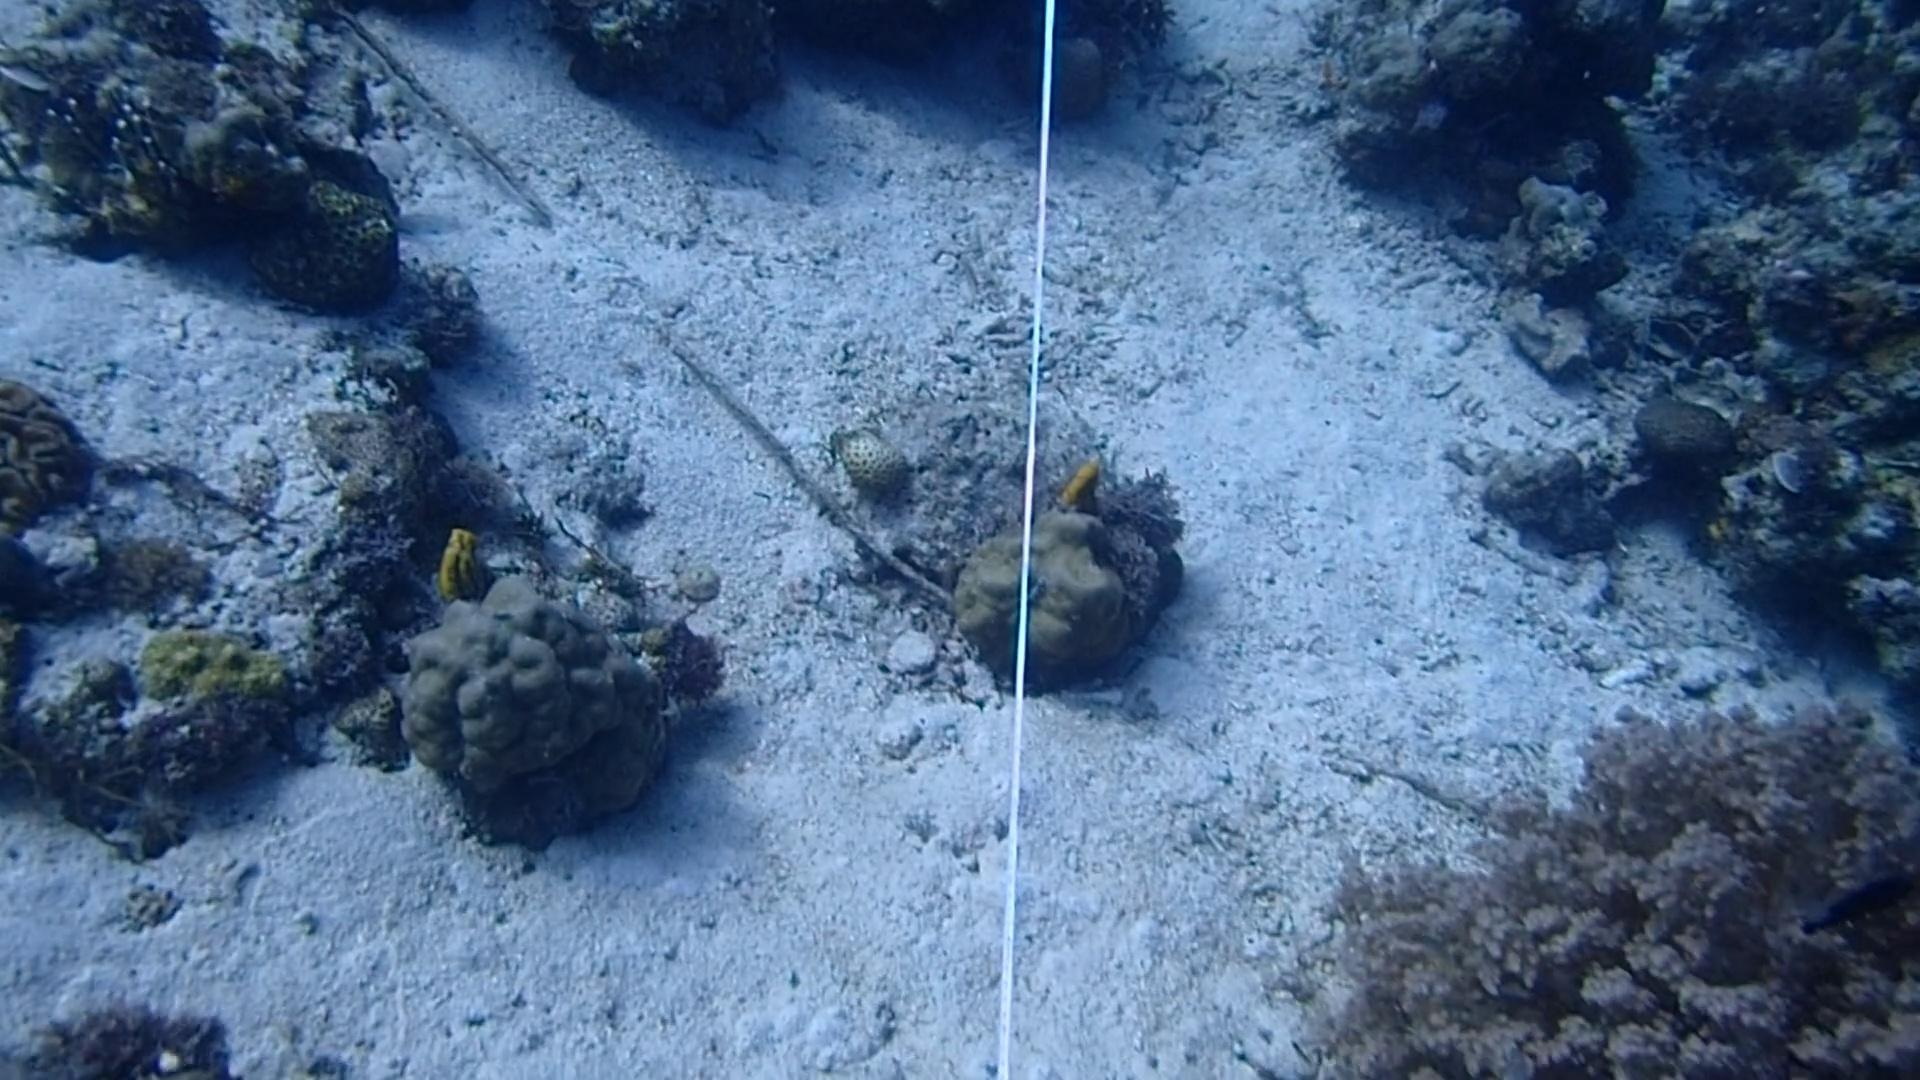Dark Fish: (1797, 852, 1905, 932)
